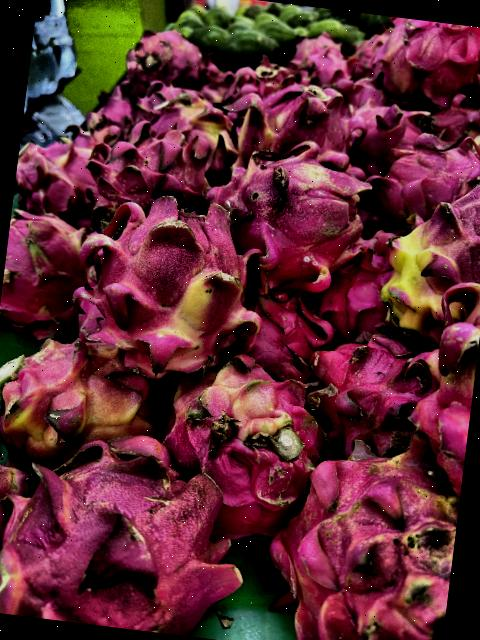buah-naga-belum-matang: (265, 427, 466, 640), (67, 181, 266, 371), (162, 352, 336, 526), (204, 144, 376, 282), (0, 328, 170, 452), (374, 164, 480, 342), (399, 278, 480, 477), (222, 76, 353, 170), (136, 86, 242, 195), (0, 197, 88, 321), (13, 129, 91, 211)
buah-naga-matang: (0, 414, 256, 640), (300, 319, 424, 450), (78, 118, 207, 220), (368, 118, 480, 227), (368, 14, 480, 107), (233, 286, 320, 374), (120, 25, 210, 99), (342, 99, 424, 167), (286, 29, 352, 86)
